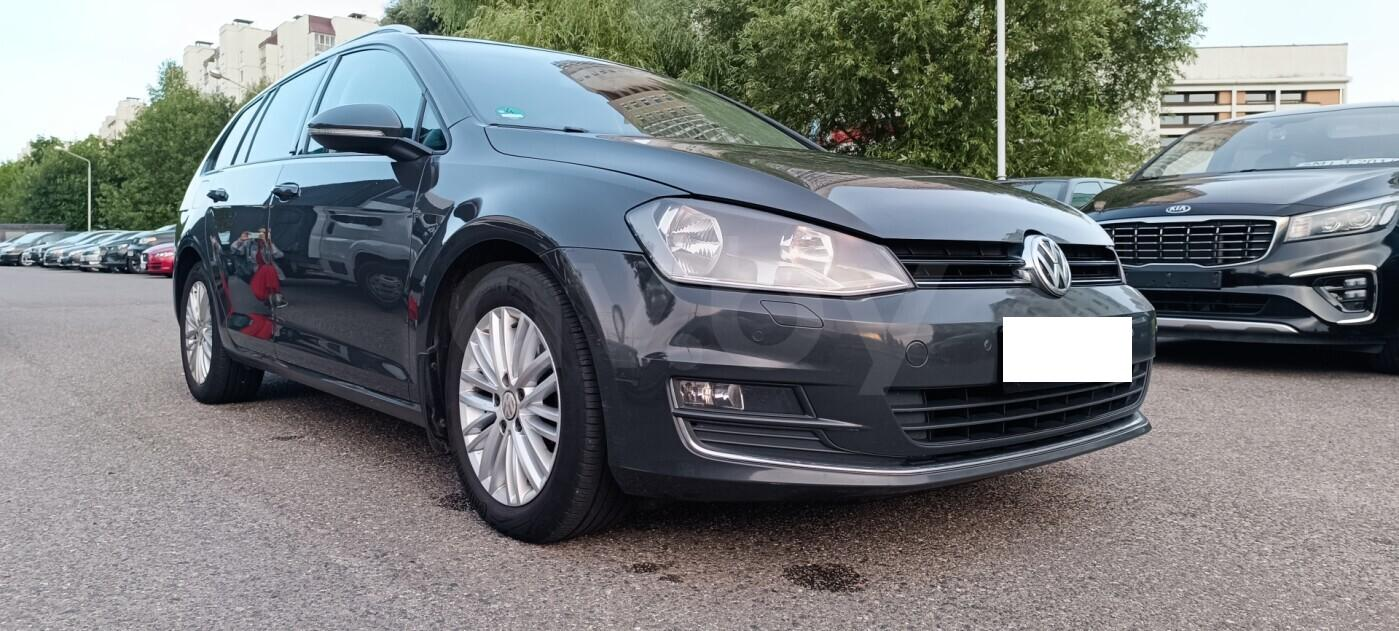Golf_2012-2017: (165, 38, 1155, 543)
